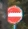No entry: (6, 5, 23, 24)
